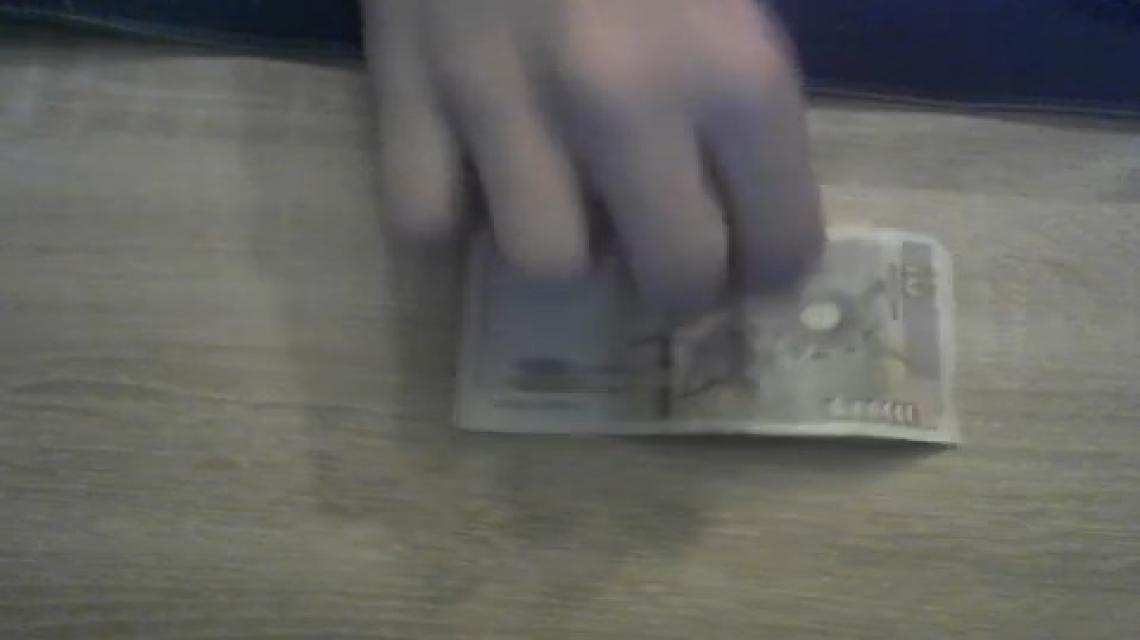10leva: (458, 226, 962, 446)
